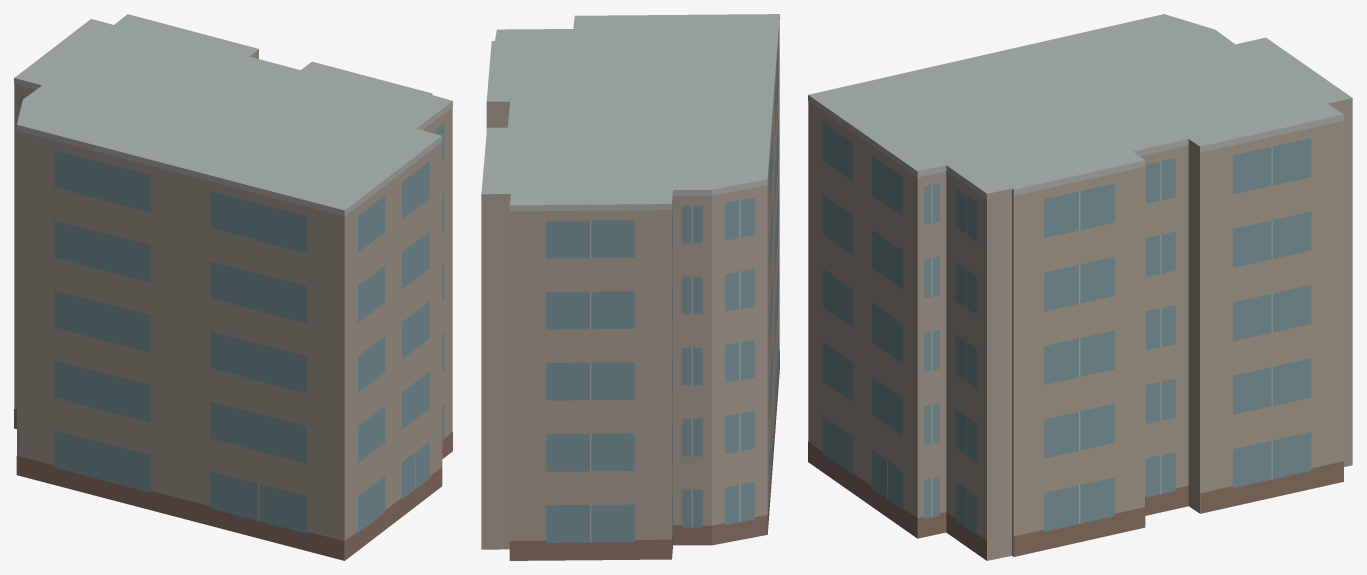
Rendered from survey-upis-32659099.glb.
3 views of the same model, side by side, from view 1: azimuth 30°, elevation 25°; view 2: azimuth 150°, elevation 25°; view 3: azimuth 270°, elevation 25° (orthographic). The views are drawn at different scales.
Parts seen in each view (by area): view 1: survey-upis-32659099.tmp; view 2: survey-upis-32659099.tmp; view 3: survey-upis-32659099.tmp.
Part boxes in pixels (x1,y1,x2,y2): survey-upis-32659099.tmp: [14, 14, 452, 560]; survey-upis-32659099.tmp: [481, 14, 779, 560]; survey-upis-32659099.tmp: [808, 14, 1352, 560].
Size of the model in its own units: 15.12 by 14.4 by 19.37.
